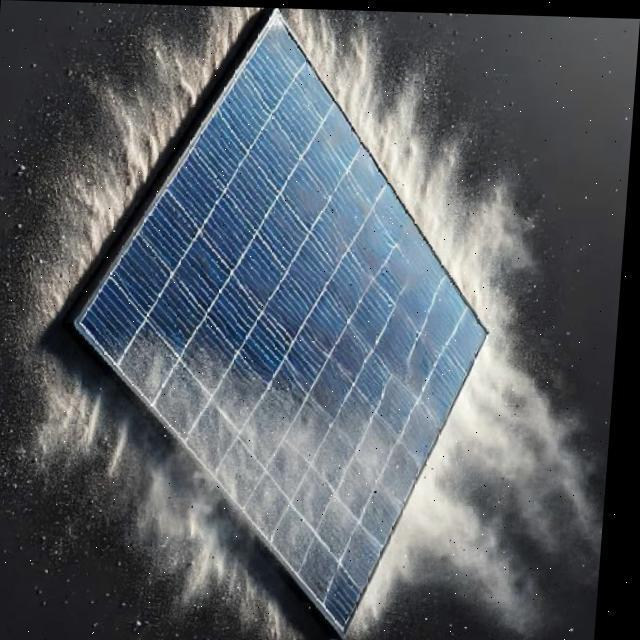Anomaly Solar Panel: (17, 13, 615, 628)
Surface Contaminant: (50, 283, 453, 613)
